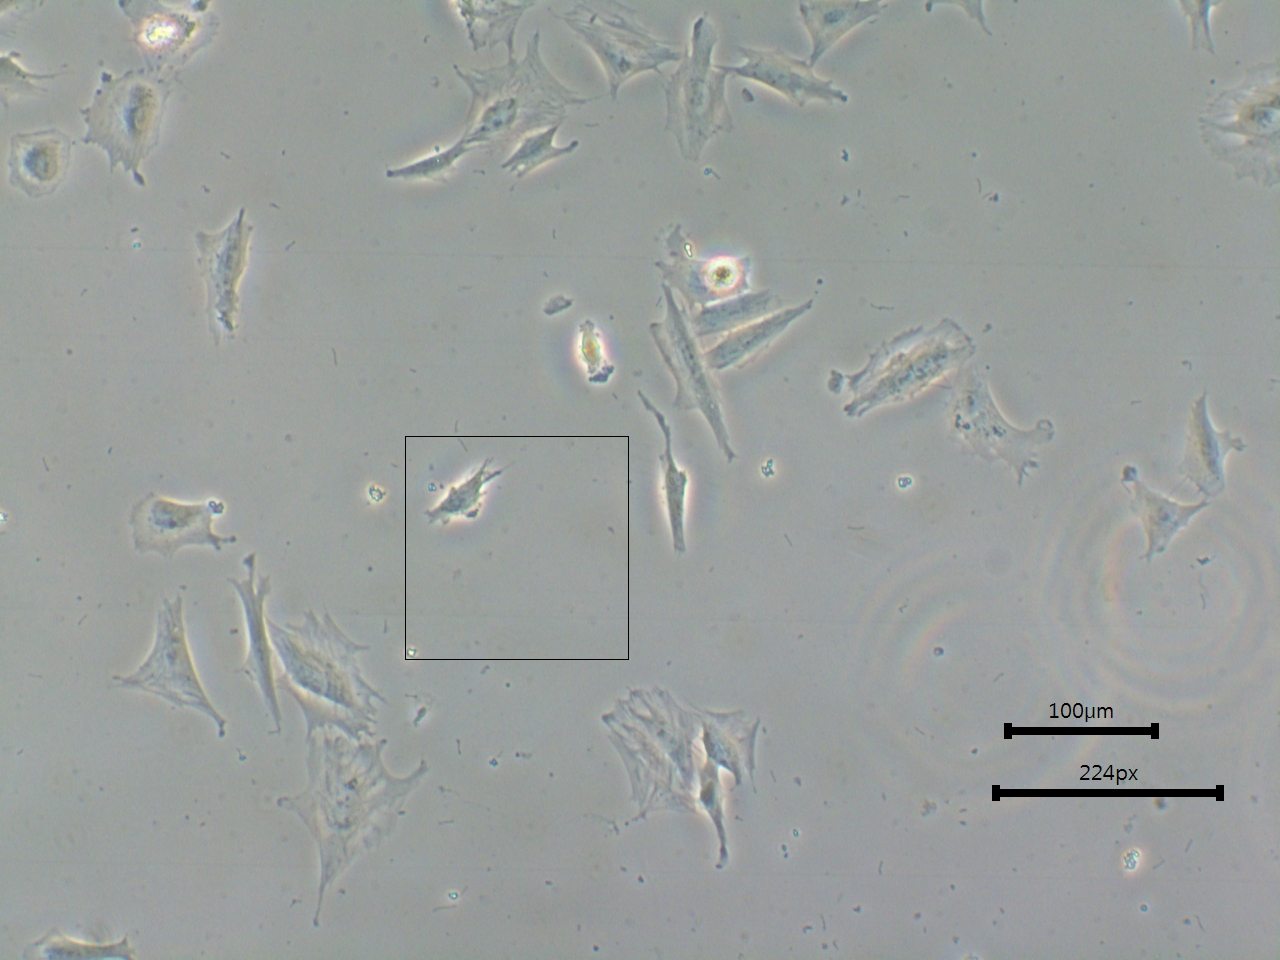dividing: (825, 310, 977, 419), (733, 45, 851, 113), (126, 493, 236, 562)
medium-polygonal: (191, 213, 259, 348), (231, 572, 277, 735)
medium-spread: (281, 737, 428, 922), (110, 584, 225, 765), (78, 64, 188, 193), (947, 376, 1059, 494), (666, 19, 736, 168), (657, 235, 750, 303)
small-polygonal: (635, 391, 691, 559), (1119, 472, 1204, 574), (504, 126, 579, 200), (384, 137, 467, 192), (577, 318, 606, 379)
small-round: (7, 122, 75, 214)
small-spread: (421, 457, 506, 530), (1177, 401, 1238, 495)
